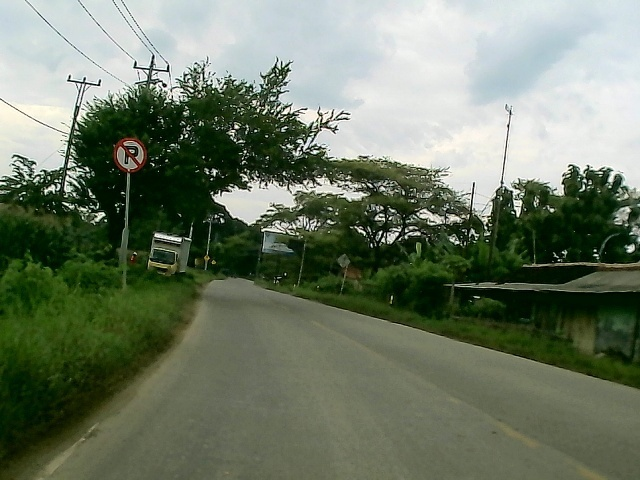Dilarang parkir: (109, 134, 149, 172)
